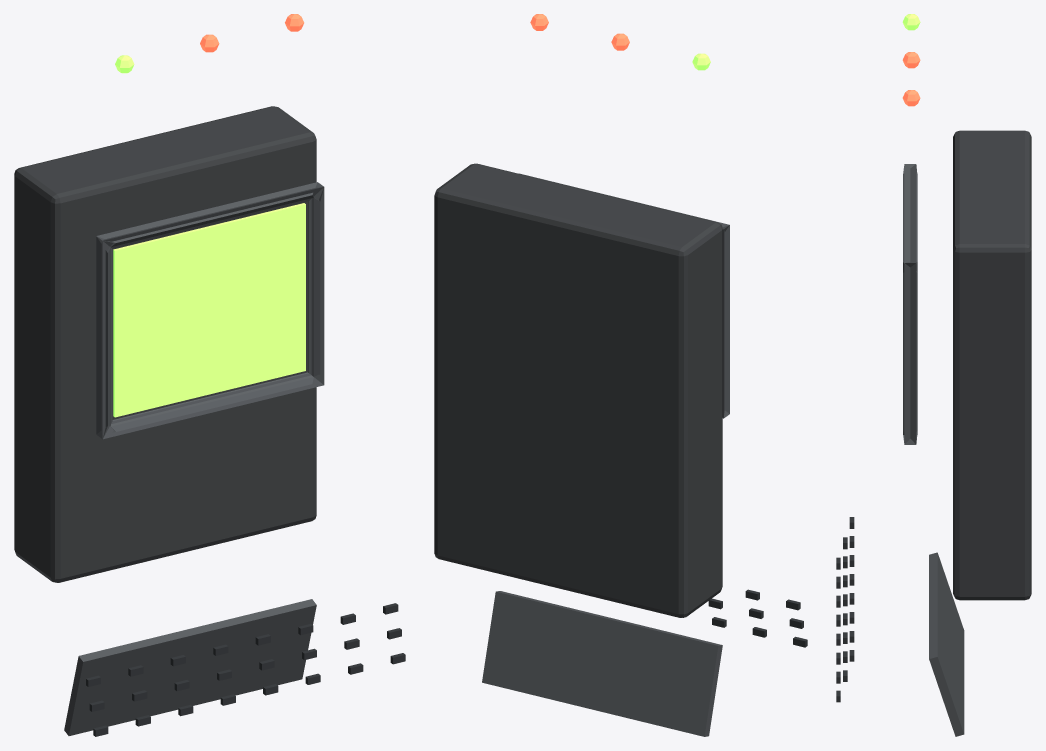
File: arch_wall_terminal.glb
3 renders of one model, left to right at view 1: azimuth 30°, elevation 25°; view 2: azimuth 150°, elevation 25°; view 3: azimuth 270°, elevation 25°, orthographic. The views are drawn at different scales.
Parts seen in each view (by area): view 1: arch_wall_terminal; view 2: arch_wall_terminal; view 3: arch_wall_terminal.
Boxes of the visible parts, <box> form: arch_wall_terminal: <box>14,14,405,736</box>; arch_wall_terminal: <box>434,14,807,736</box>; arch_wall_terminal: <box>836,14,1031,736</box>.
Bounding box in the file's own units: 0.292 × 0.6217 × 0.174.
